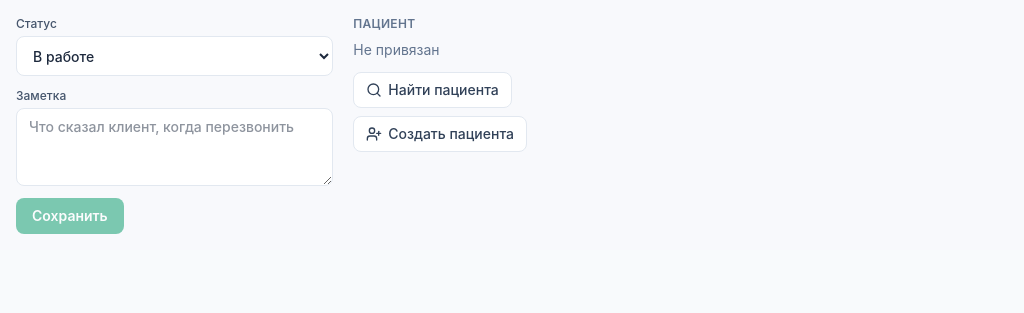
Test: lead details › status and note › shows the server's message when saving fails and keeps what was typed
Type "текст" into the text box labelled "Заметка" at [175, 147], box [16,108,333,186]
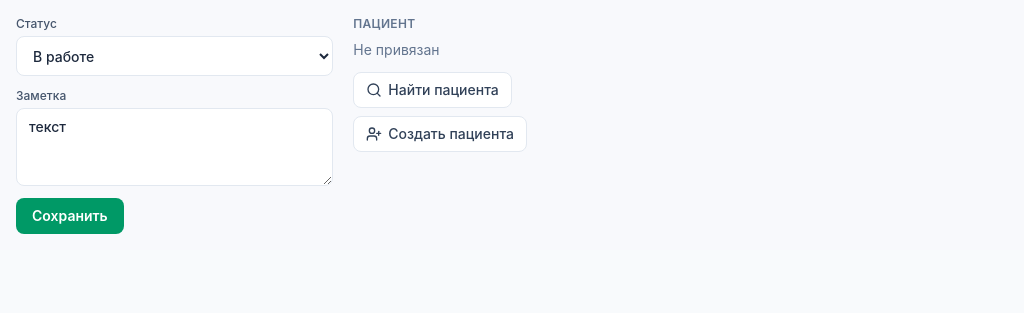
Click the button "Сохранить" at [70, 216], box [16,198,124,234]
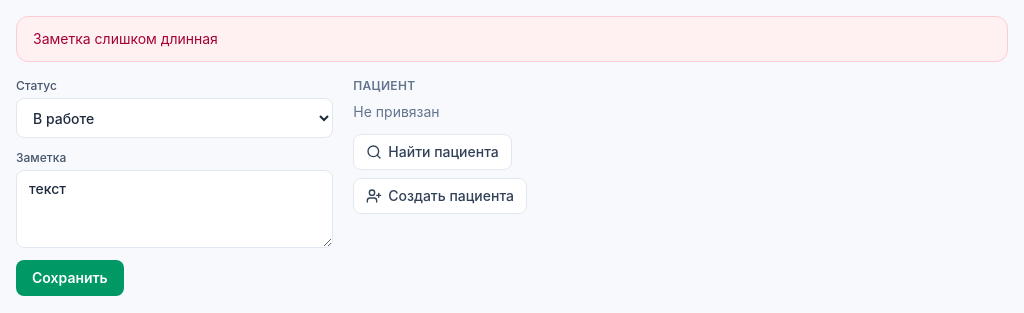
Expected: the message "Заметка слишком длинная" is shown, [16,16,1008,62]
